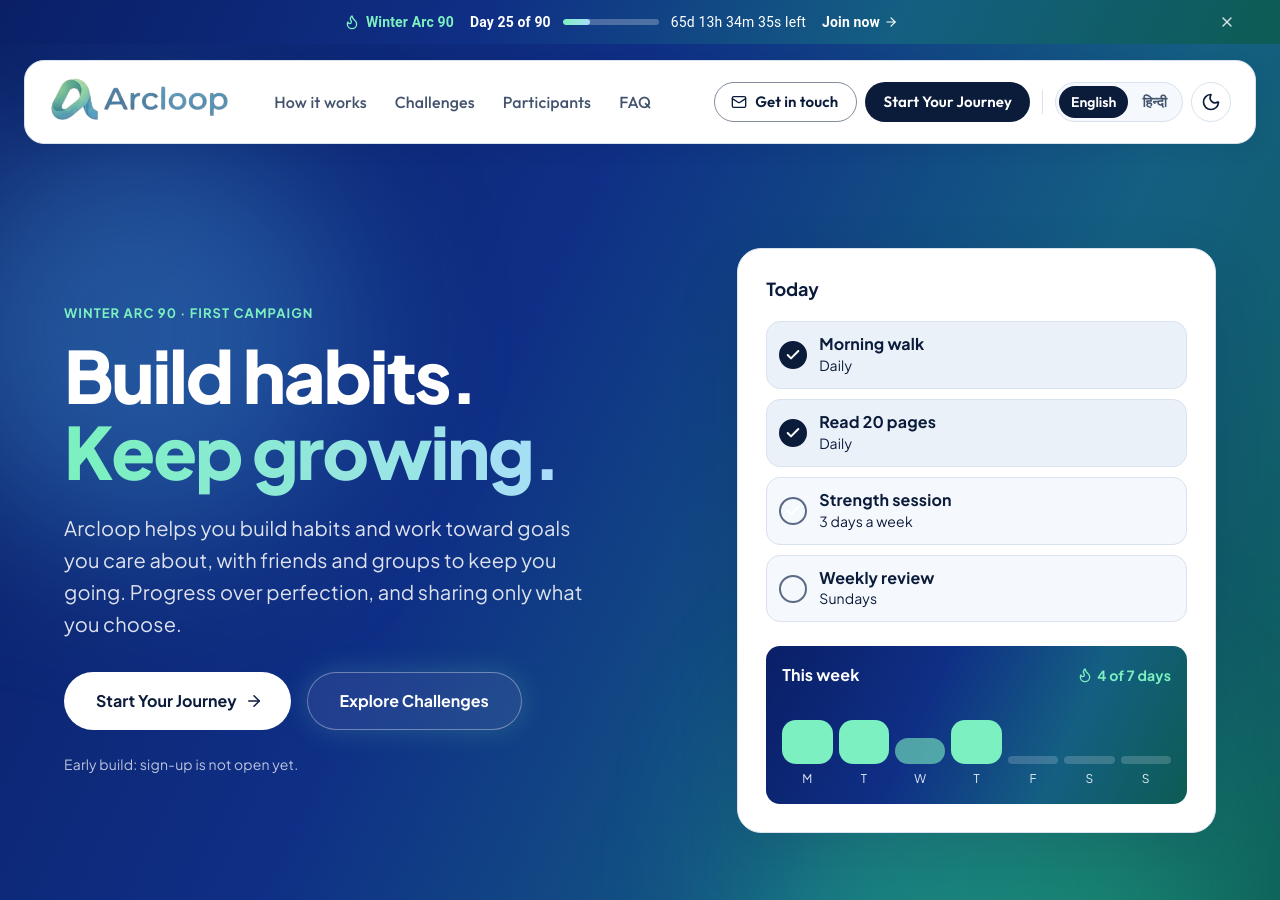
Test: language › switches the navigation and the page to Hindi, sets <html lang>, and remembers the choice
Expected: the link "How it works" is shown, 274,92 -> 367,112
Click the button "हिन्दी" at (1155, 102), box 1130,86 -> 1179,118
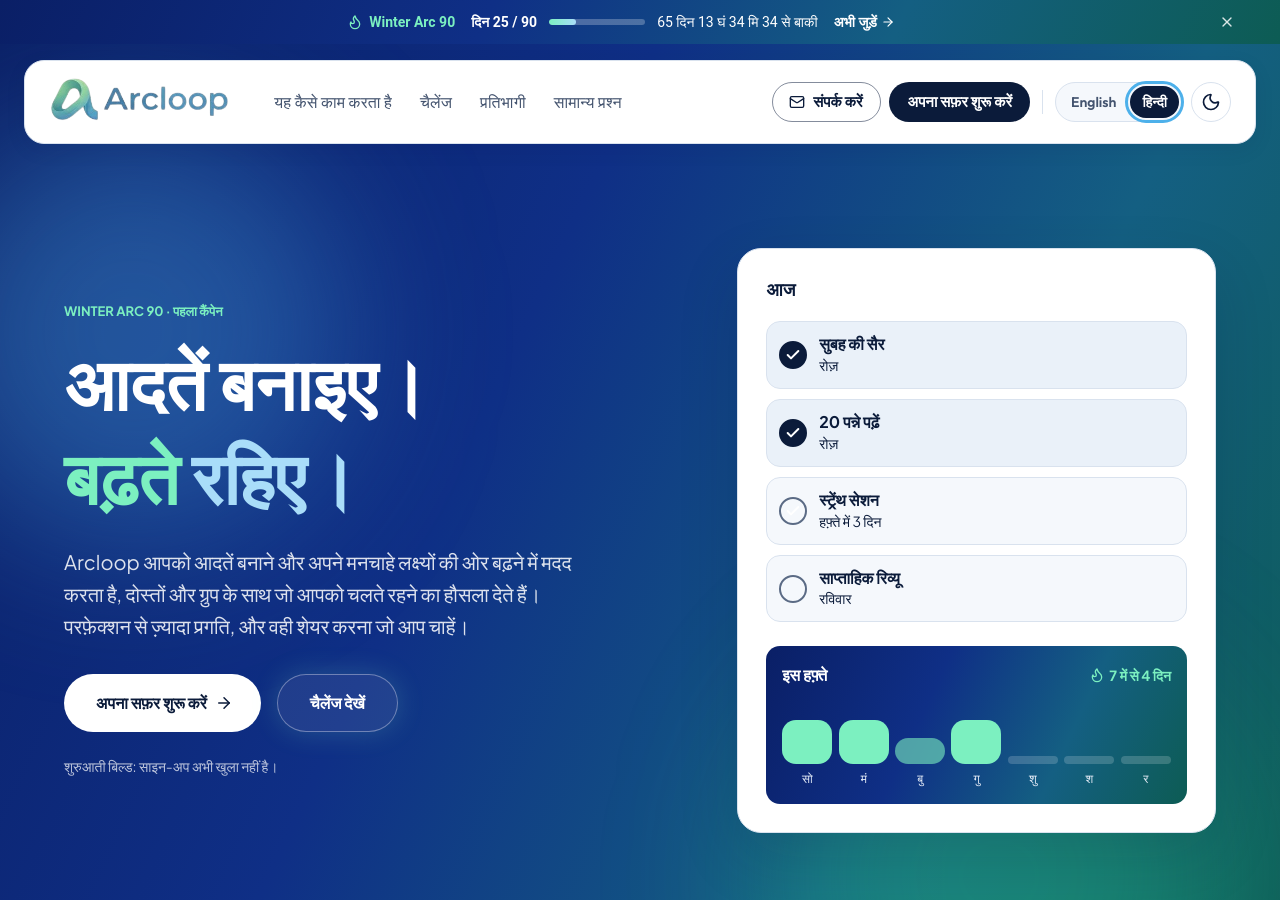
Now the link "यह कैसे काम करता है" is shown, box 274,92 -> 392,112
Click the button "English" at (1094, 102), box 1059,86 -> 1128,118
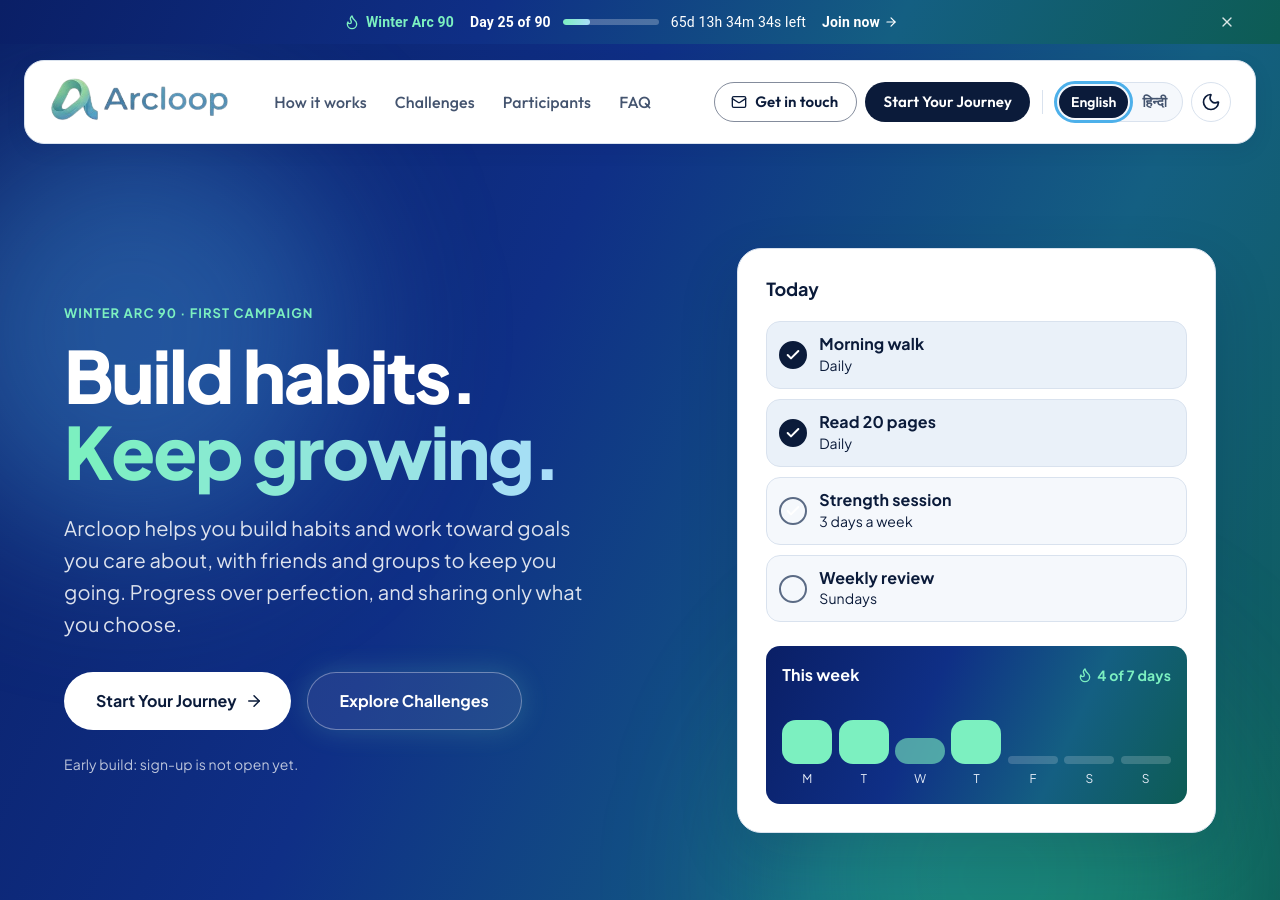
Now the link "How it works" is shown, box 274,92 -> 367,112
